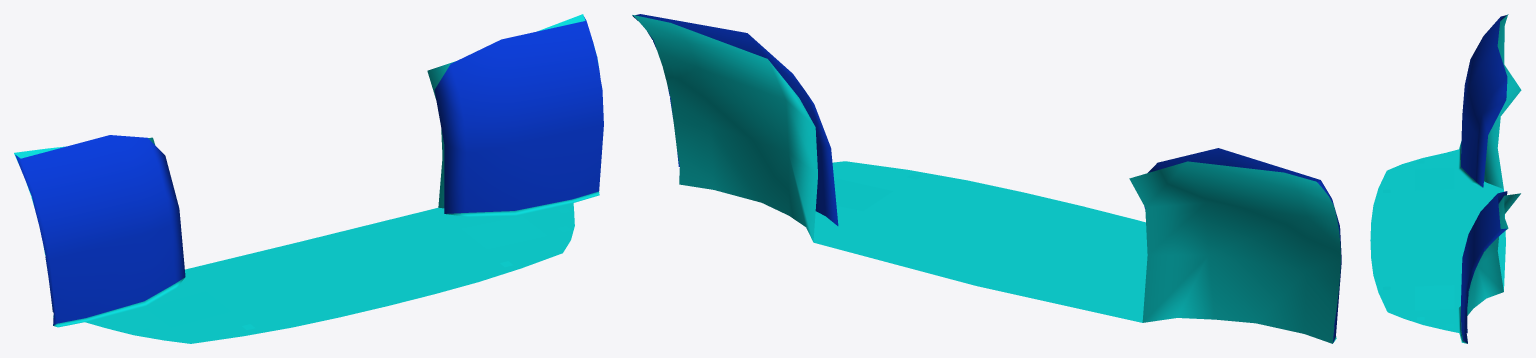
File: Car_Ford_GT_2017_BumperChassisF_SetA.fbx
The picture shows the model from 3 angles, left to right: view 1: azimuth 30°, elevation 25°; view 2: azimuth 150°, elevation 25°; view 3: azimuth 270°, elevation 25°; orthographic projection. The views are drawn at different scales.
Visible parts, largest first — view 1: BumperChassisF 6; view 2: BumperChassisF 6; view 3: BumperChassisF 6.
Boxes of the visible parts, left/top/right/bottom form: BumperChassisF 6: left=14, top=14, right=603, bottom=343; BumperChassisF 6: left=632, top=14, right=1341, bottom=343; BumperChassisF 6: left=1370, top=14, right=1521, bottom=343.
Size of the model in its own units: 1.92 by 0.5139 by 0.5737.
